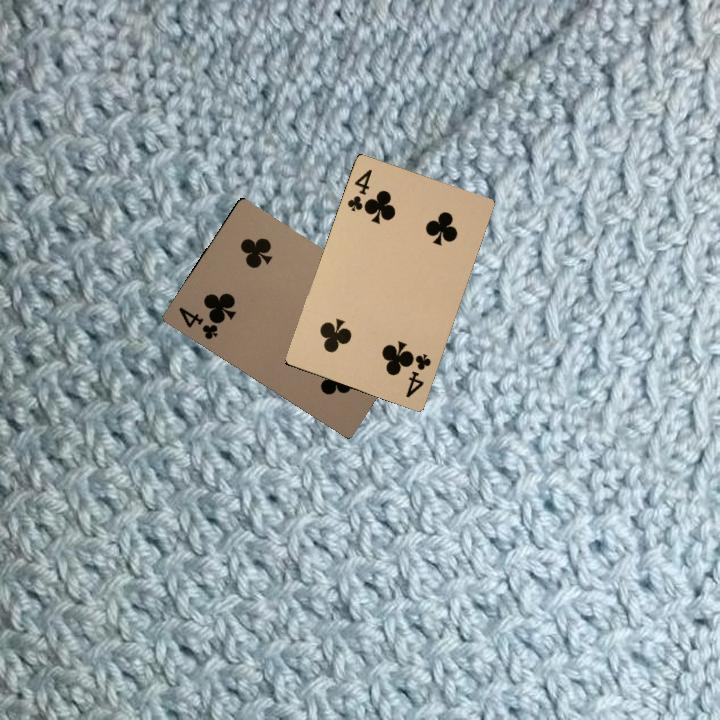4c: (174, 303, 220, 342), (343, 165, 375, 214), (402, 350, 433, 400)
